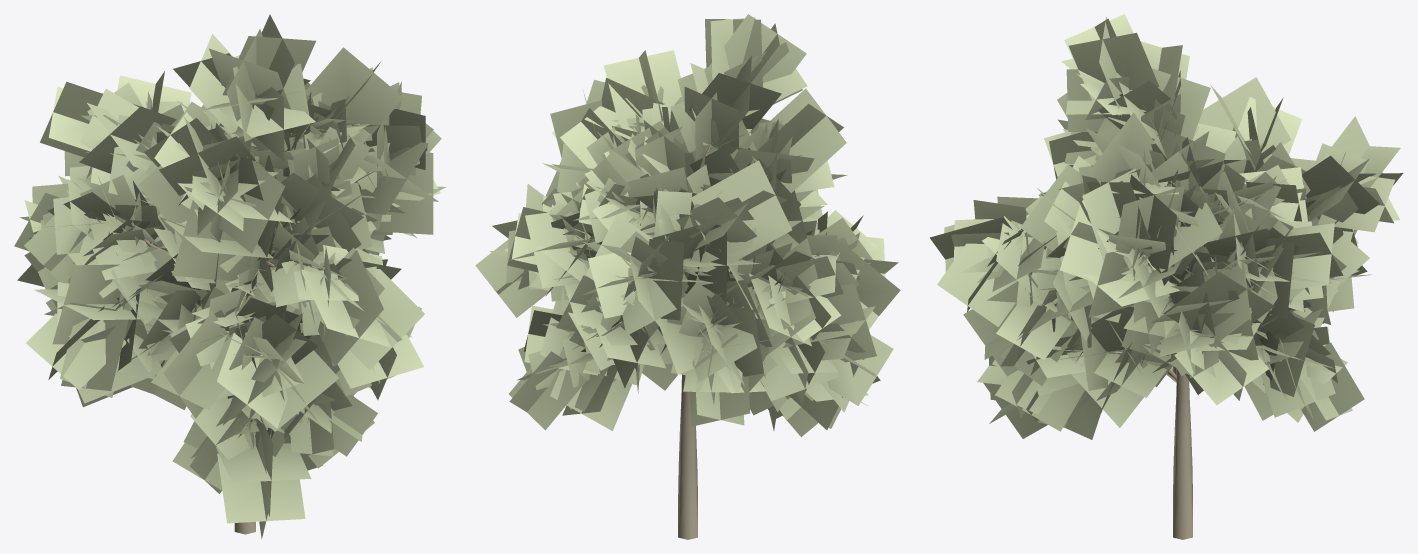
Rendered from oak.glb.
3 renders of one model, left to right at view 1: azimuth 30°, elevation 25°; view 2: azimuth 150°, elevation 25°; view 3: azimuth 270°, elevation 25°, orthographic. The views are drawn at different scales.
Bounding box in the file's own units: 12.65 × 16 × 13.61.
